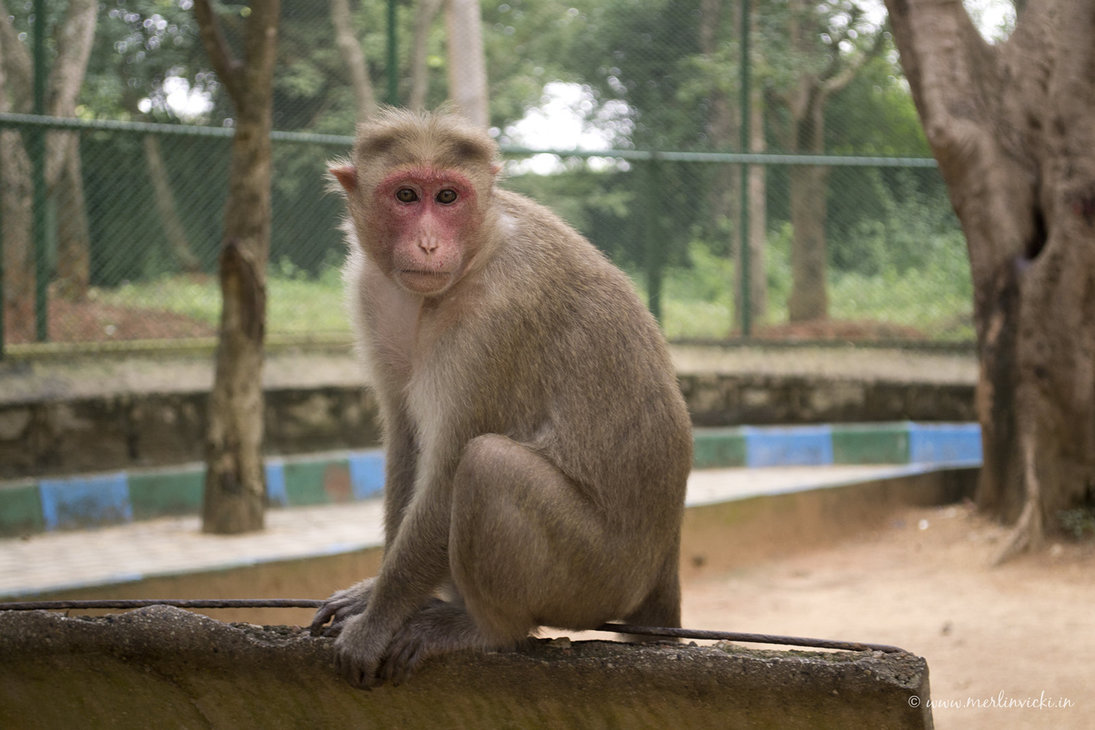monkey: (325, 97, 695, 677)
